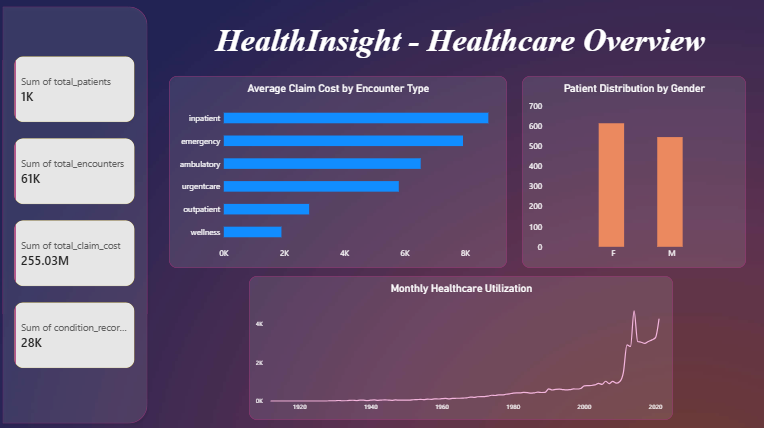

The page's visual inventory and layout, read from the dashboard file:
{"tool":"powerbi","page":{"name":"Healtcare Overview","canvas":[1920,1080],"ordinal":0},"visuals":[{"type":"shape","box":[0,10,380,1060],"z":0},{"type":"textbox","box":[527.5,57.5,1252.5,135],"z":1000},{"type":"cardVisual","fields":{"Data":["Sum(01_query_1_patient_demographics.total_patients)","Sum(02_query_2_monthly_healthcare_utilization.total_encounters)","Sum(03_query_3_encounter_costs_by_type.total_claim_cost)","Sum(04_query_4_most_frequently_recorded_conditions.condition_records)"]},"box":[20,125,337.5,817.5],"z":2000},{"type":"clusteredBarChart","title":"Average Claim Cost by Encounter Type","fields":{"Category":["03_query_3_encounter_costs_by_type.encounterclass"],"Y":["Sum(03_query_3_encounter_costs_by_type.average_claim_cost)"]},"box":[425,192.5,845,480],"z":3000},{"type":"clusteredColumnChart","title":"Patient Distribution by Gender","fields":{"Category":["01_query_1_patient_demographics.gender"],"Y":["Sum(01_query_1_patient_demographics.total_patients)"]},"box":[1307.5,192.5,560,480],"z":4000},{"type":"lineChart","title":"Monthly Healthcare Utilization","fields":{"Category":["02_query_2_monthly_healthcare_utilization.month.Variation.Date Hierarchy.Year","02_query_2_monthly_healthcare_utilization.month.Variation.Date Hierarchy.Quarter","02_query_2_monthly_healthcare_utilization.month.Variation.Date Hierarchy.Month","02_query_2_monthly_healthcare_utilization.month.Variation.Date Hierarchy.Day"],"Y":["Sum(02_query_2_monthly_healthcare_utilization.total_encounters)"]},"box":[625,692.5,1060,360],"z":5000}]}

Visuals, with their boxes in screenshot pixels (x1, y1, x2, y2), scaled from the page's 1920x1080 canvas onto the 764x428 screenshot:
shape: 0 4 151 424
textbox: 210 23 708 76
cardVisual - Sum(01_query_1_patient_demographics.total_patients) x Sum(02_query_2_monthly_healthcare_utilization.total_encounters): 8 50 142 374
"Average Claim Cost by Encounter Type" clusteredBarChart: 169 76 505 267
"Patient Distribution by Gender" clusteredColumnChart: 520 76 743 267
"Monthly Healthcare Utilization" lineChart: 249 274 670 417
